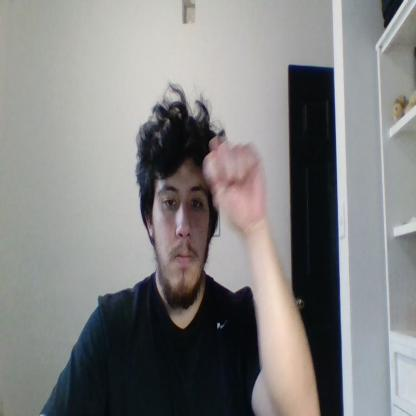T: (204, 136, 265, 225)
